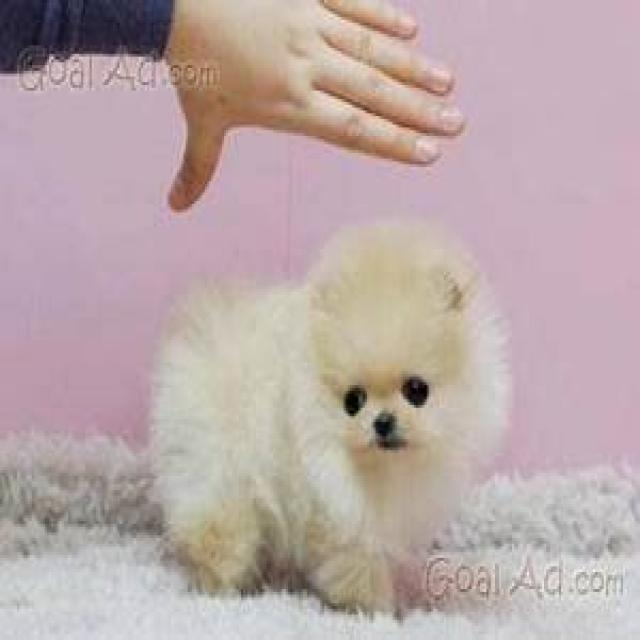dog: (152, 224, 506, 608)
